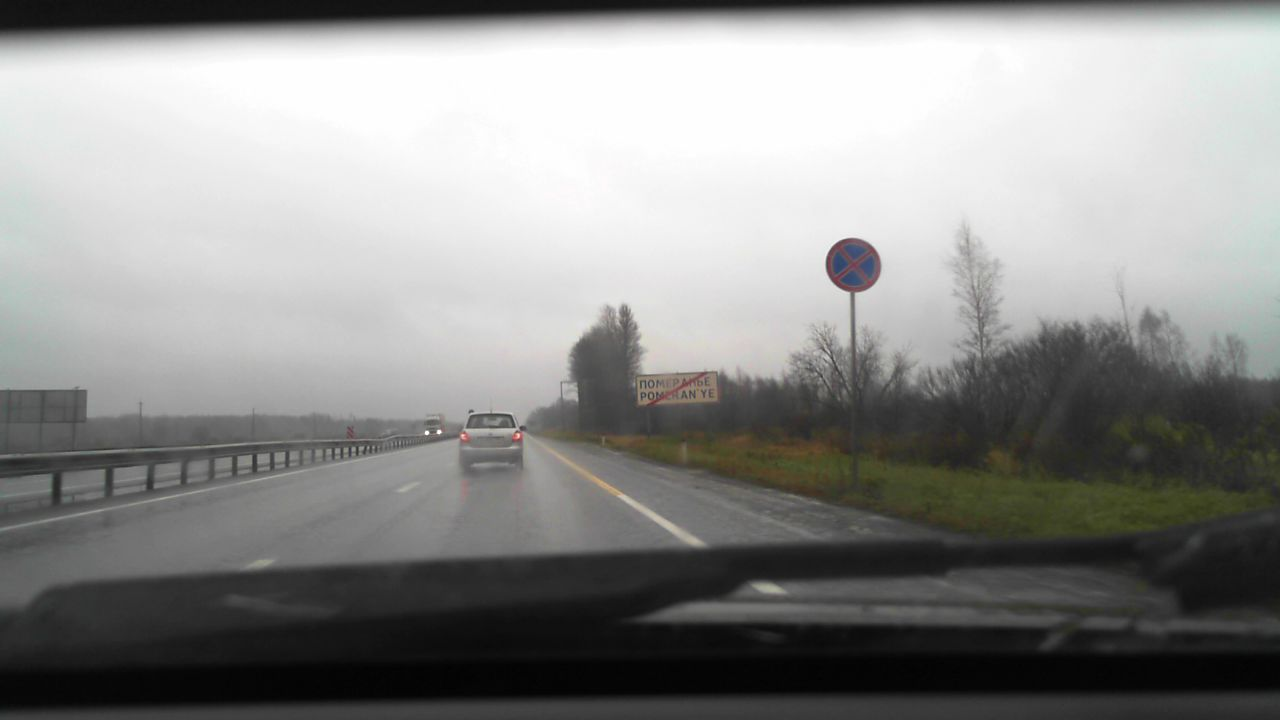No Parking: (825, 237, 881, 292)
